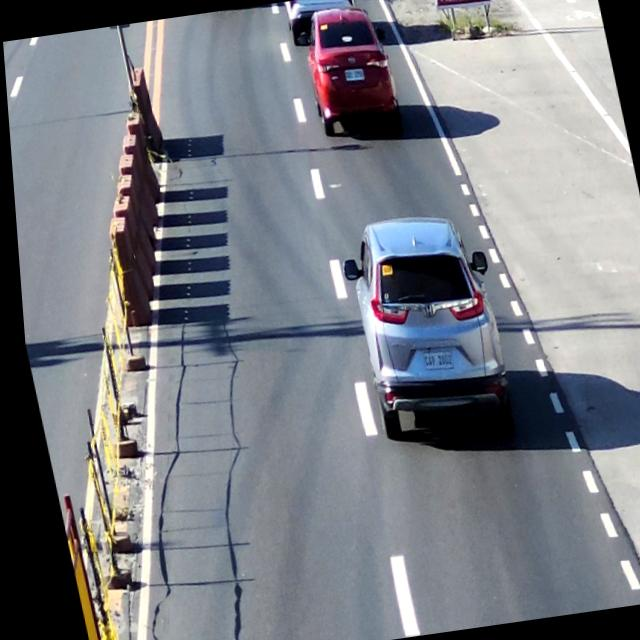Car: (335, 204, 513, 441), (288, 2, 405, 140)
License-Plate: (417, 349, 450, 374), (341, 64, 366, 85)
